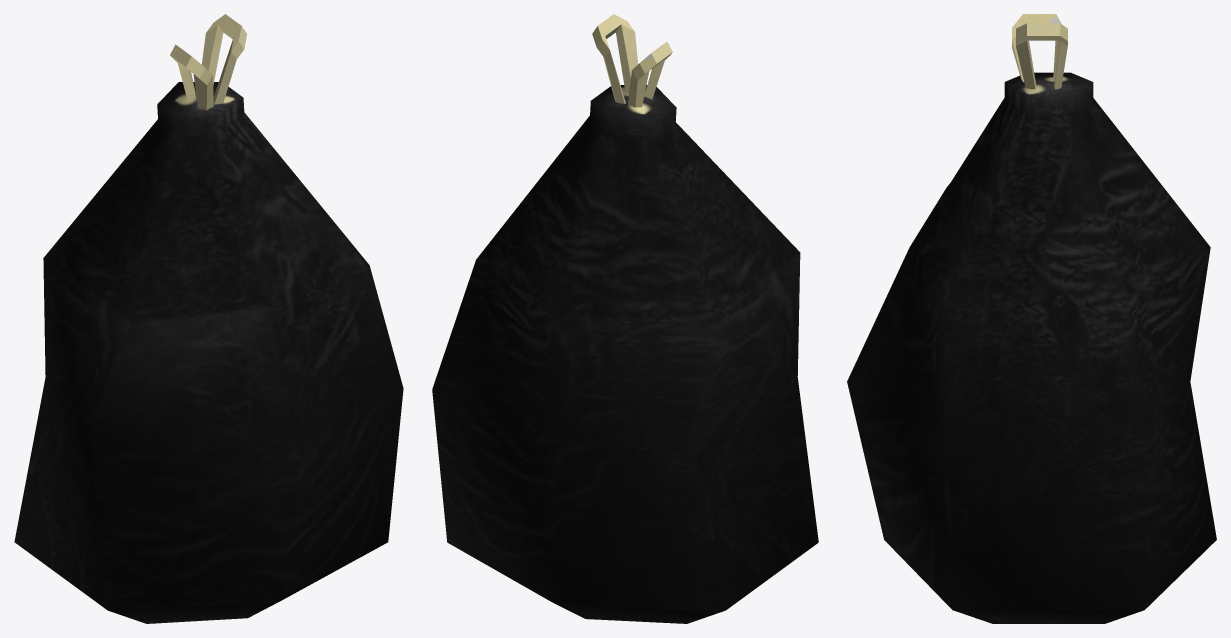
File: Props_Trash_3.fbx
3 renders of one model, left to right at view 1: azimuth 30°, elevation 25°; view 2: azimuth 150°, elevation 25°; view 3: azimuth 270°, elevation 25°, orthographic. The views are drawn at different scales.
Parts seen in each view (by area): view 1: Props_Trash_3; view 2: Props_Trash_3; view 3: Props_Trash_3.
Boxes of the visible parts, x1,y1,x2,y2 form: Props_Trash_3: (14,14,403,623); Props_Trash_3: (432,14,818,623); Props_Trash_3: (847,14,1216,623).
Size of the model in its own units: 64.05 by 117 by 68.37.
